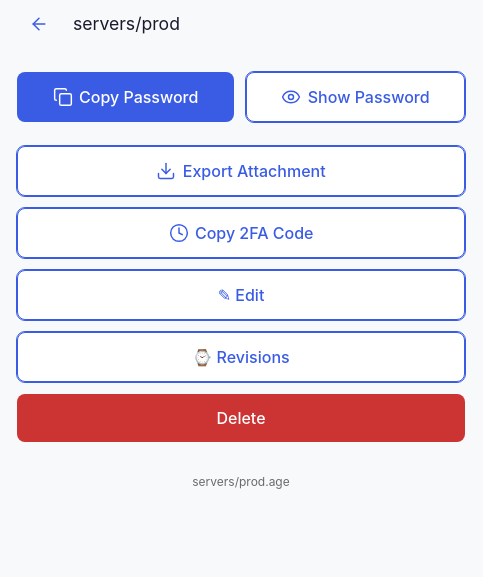
it: EntryDetailPage › showPassword › shows hint for errors containing 'ecrypt'
Click the button with aria-label "Show password" at (356, 97), box [246,72,465,122]
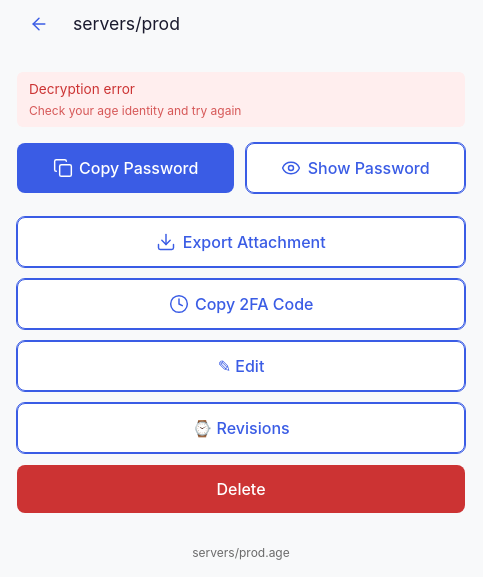
Expected: the text "Check your age identity and try again" is shown, [29,103,241,118]
